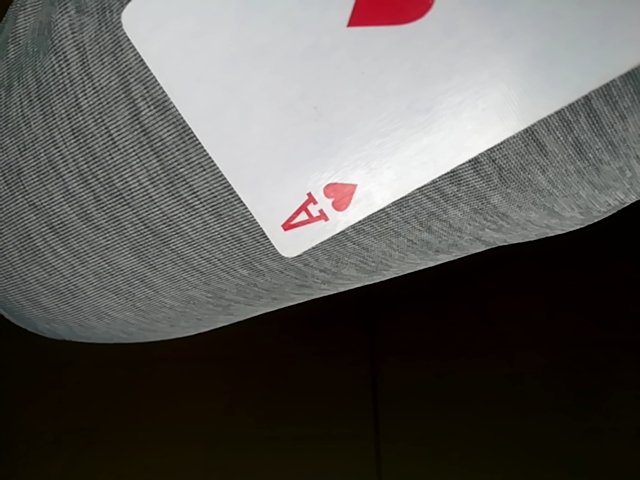hx a: (108, 0, 637, 260)
